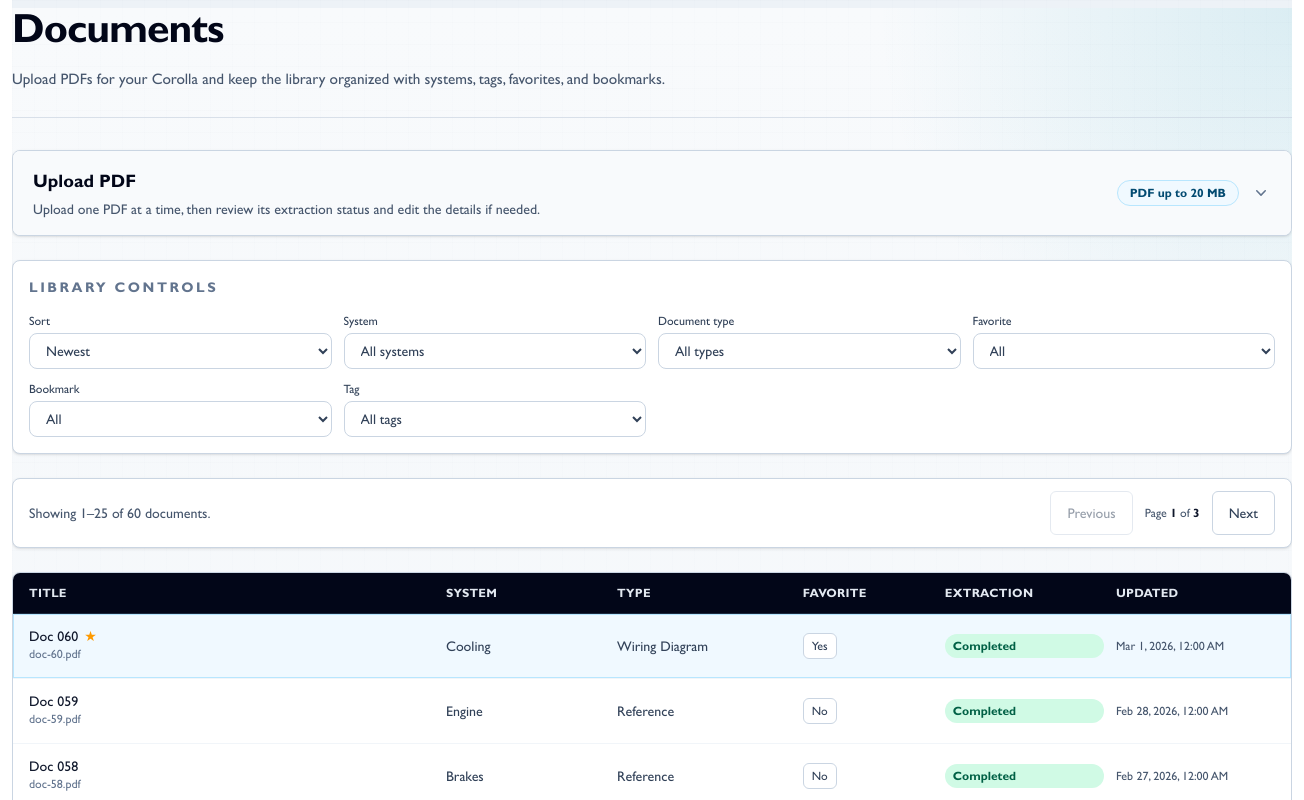
it: an answer for an older view never replaces the view the owner moved to
The image size is (1304, 800).
Check: the heading "Library controls" is shown, box [29,277,218,297]
Step 1. Select "Brakes" in the dropdown labelled "System" → coordinates (495, 351), box [344,333,646,369]
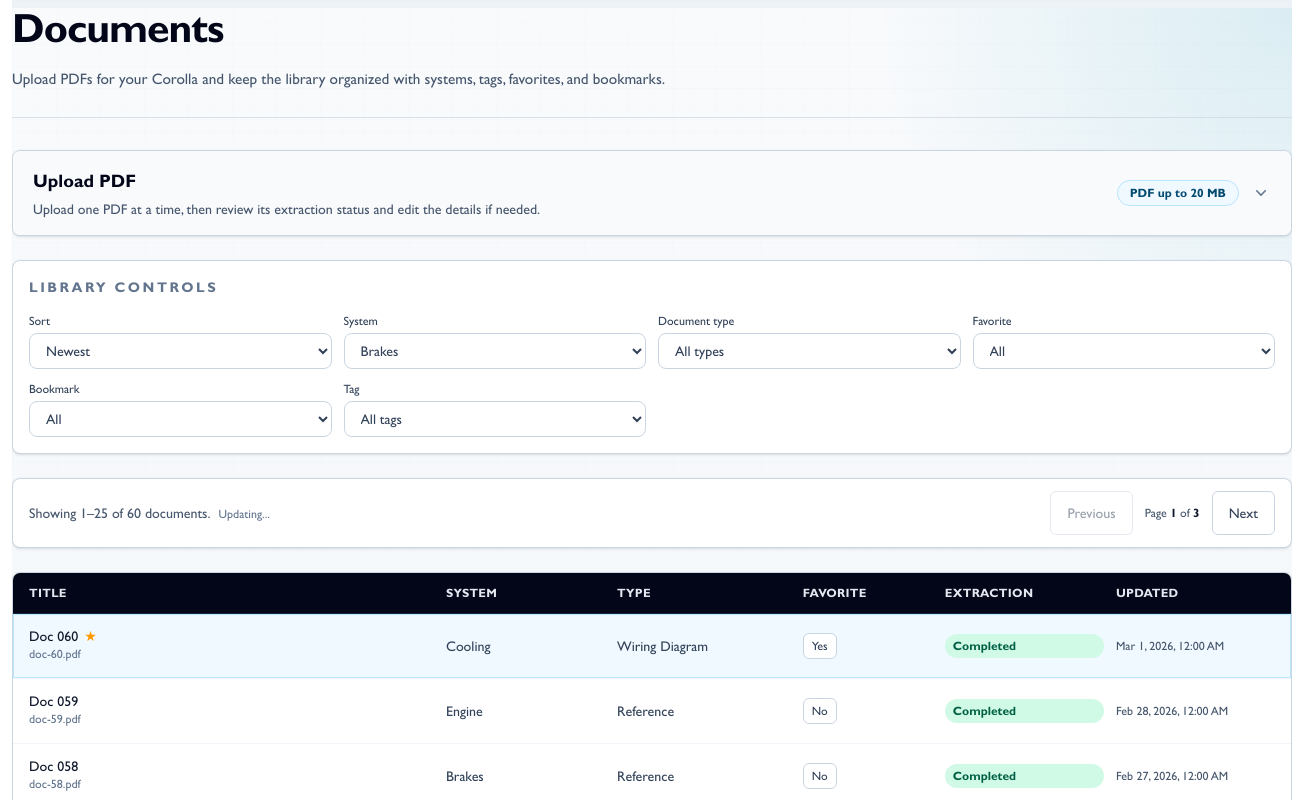
Step 2. Select "Engine" in the dropdown labelled "System" → coordinates (495, 351), box [344,333,646,369]
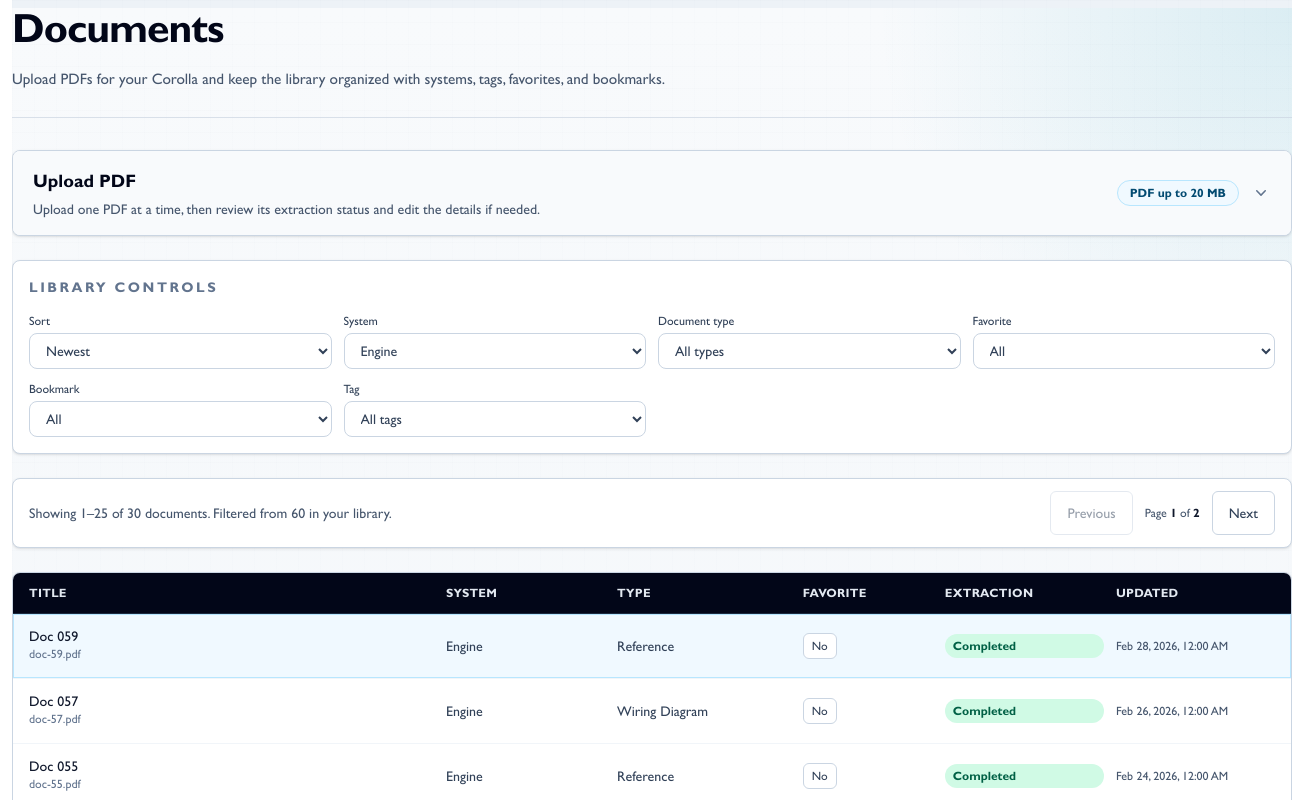
Check: the text "Showing 1–25 of 30 documents. Filtered from 60 in your library." is shown, box [29,503,392,523]
